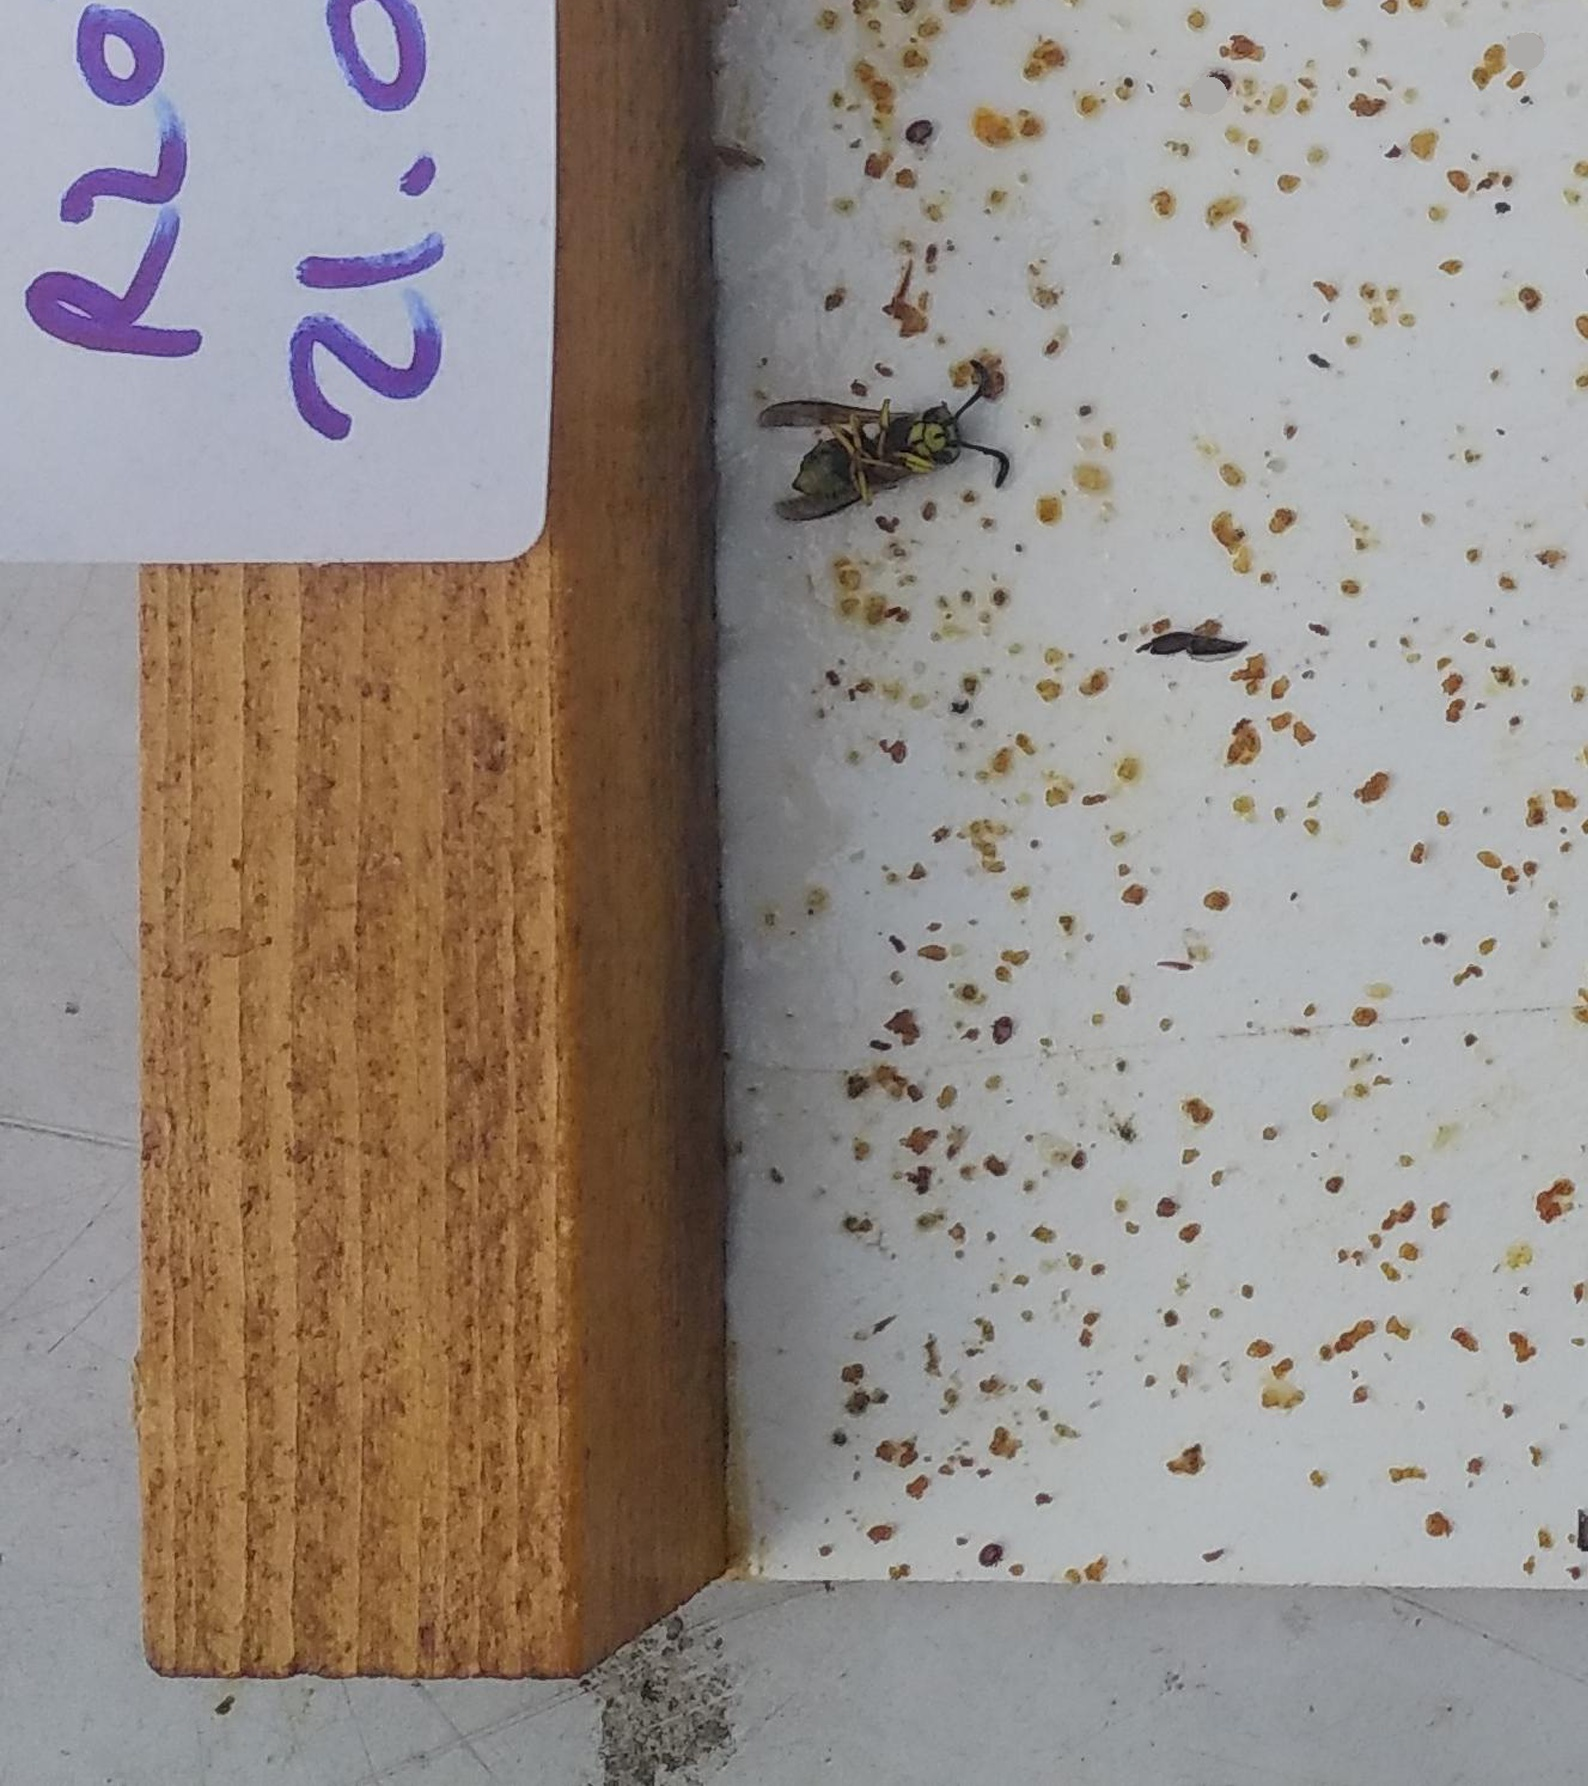Varroa: (904, 120, 932, 147), (979, 1539, 1004, 1565), (990, 1021, 1013, 1046), (1205, 67, 1222, 87)
